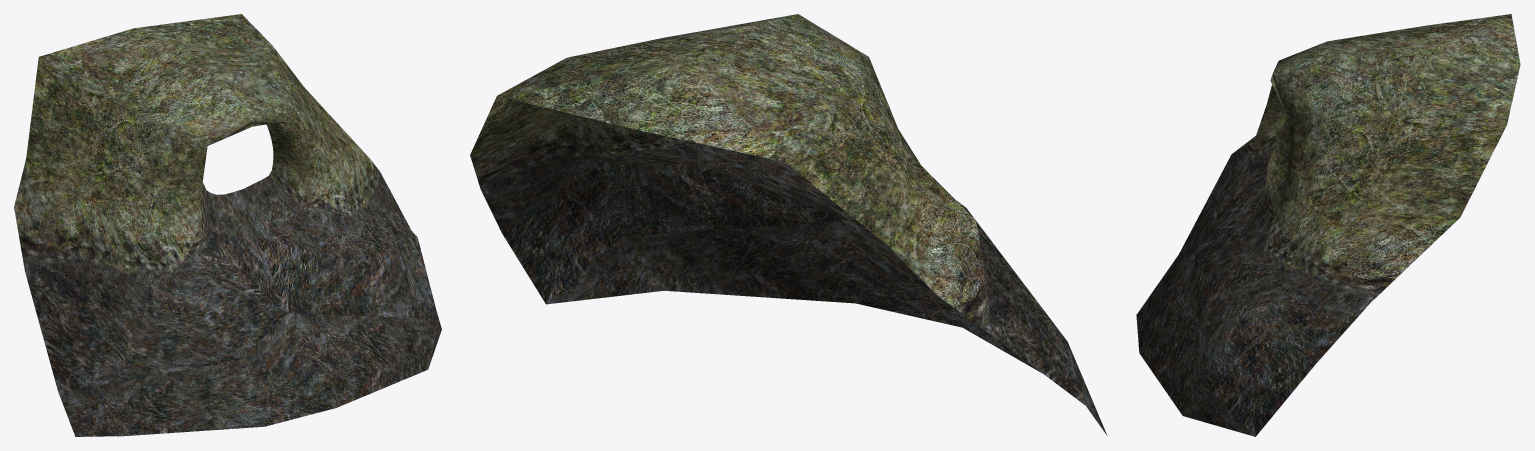
Rendered from thm_all_cave_s03_damprock_r0_mesh_l3.fbx.
3 views of the same model, side by side, from view 1: azimuth 30°, elevation 25°; view 2: azimuth 150°, elevation 25°; view 3: azimuth 270°, elevation 25° (orthographic). The views are drawn at different scales.
Visible parts, largest first — view 1: mesh_node; view 2: mesh_node; view 3: mesh_node.
Boxes of the visible parts, box(x1,y1,x2,y2) form: mesh_node: box(14, 14, 441, 436); mesh_node: box(470, 14, 1107, 435); mesh_node: box(1136, 14, 1520, 436).
Size of the model in its own units: 48.32 by 33.74 by 39.28.
